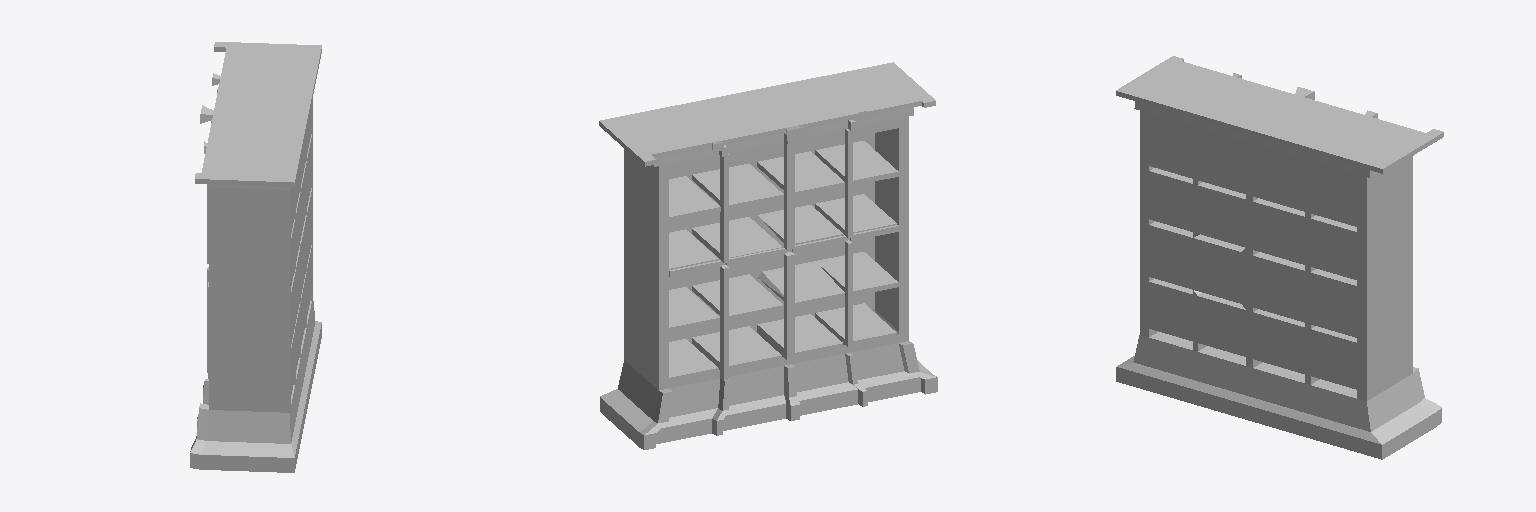
The model's file is bookshelf.obj.
3 renders of one model, left to right at view 1: azimuth 30°, elevation 25°; view 2: azimuth 150°, elevation 25°; view 3: azimuth 270°, elevation 25°, orthographic.
Visible parts, largest first — view 1: Shelf; view 2: Shelf; view 3: Shelf.
Boxes of the visible parts, <box> form: Shelf: <box>190,42,321,472</box>; Shelf: <box>599,62,937,449</box>; Shelf: <box>1116,56,1443,459</box>.
Size of the model in its own units: 0.6154 by 0.7328 by 0.7441.